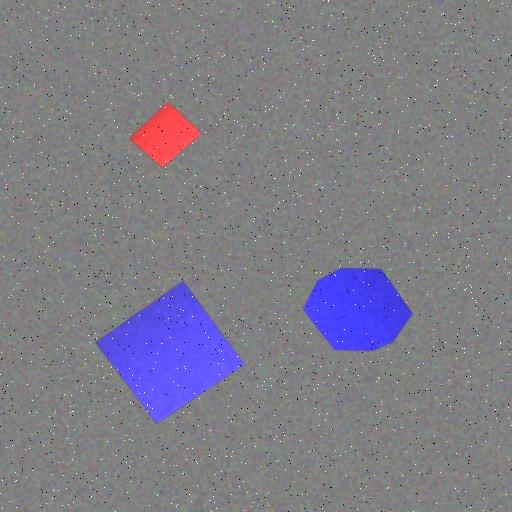BLUE_SQUARE: (95, 280, 245, 425)
RED_SQUARE: (129, 102, 202, 168)
